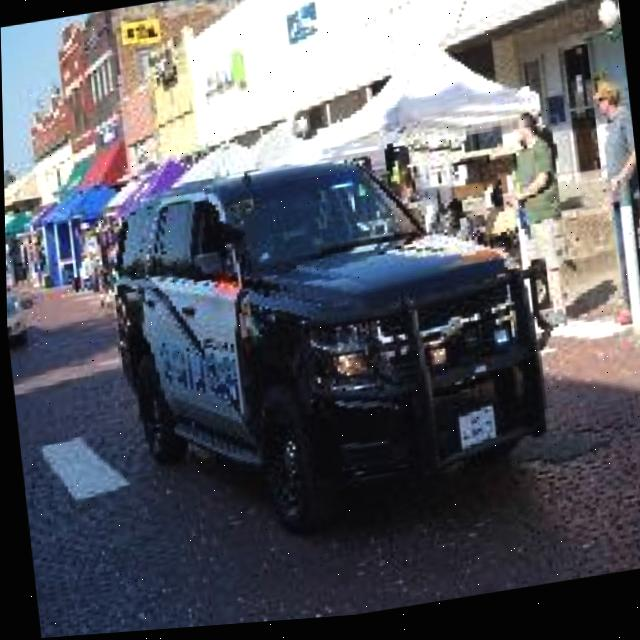emergency: (95, 128, 560, 566)
